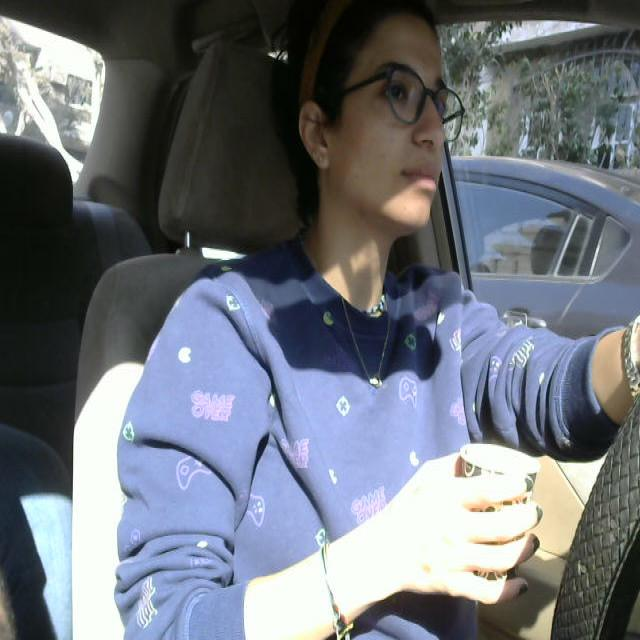drinking: (449, 442, 538, 612)
